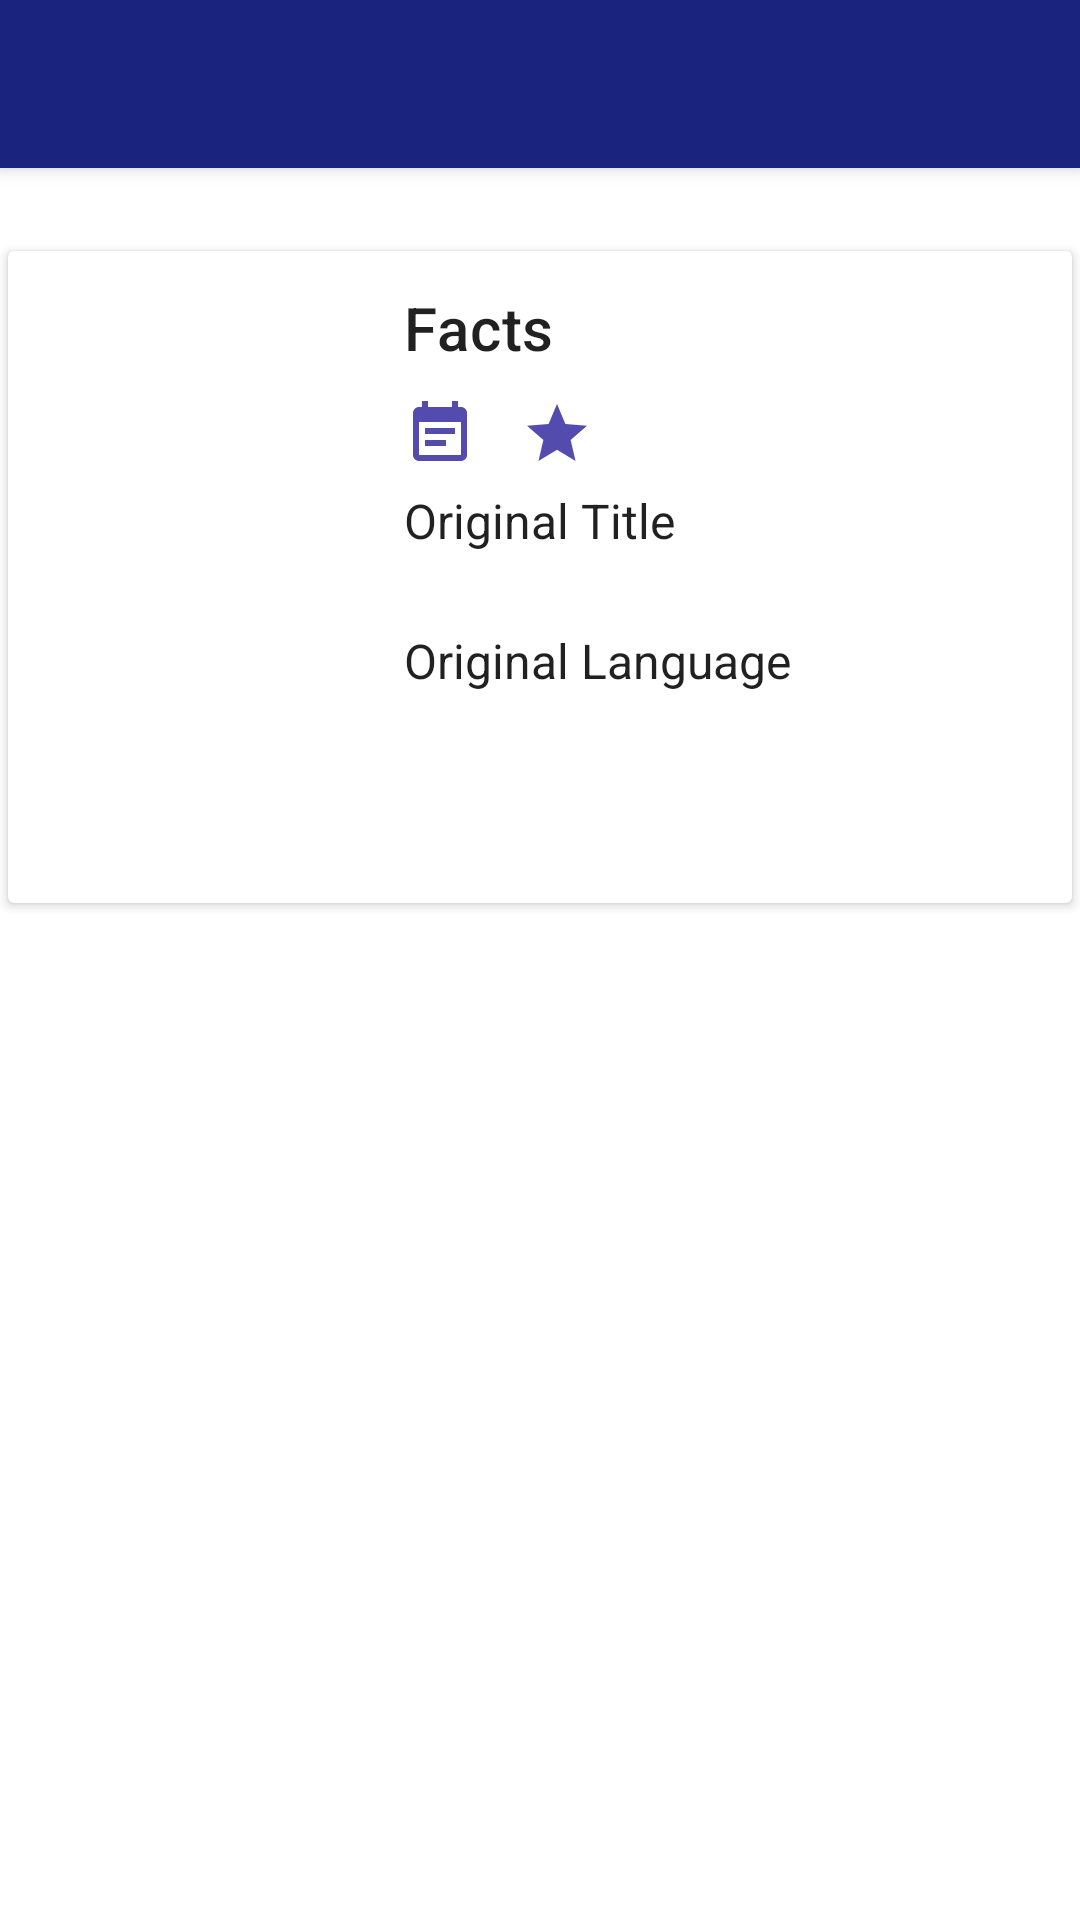

Icons on this 1080px x 1920px Android screen, each with its box as [left=x1, top=y1, right=x2, bottom=y2]:
calendar: [left=413, top=401, right=467, bottom=461]
star: [left=527, top=404, right=587, bottom=461]
